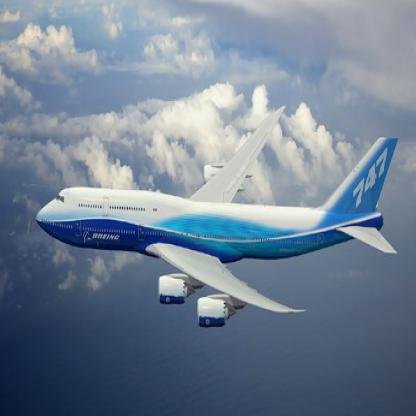CIV_Plane: (28, 104, 400, 330)
